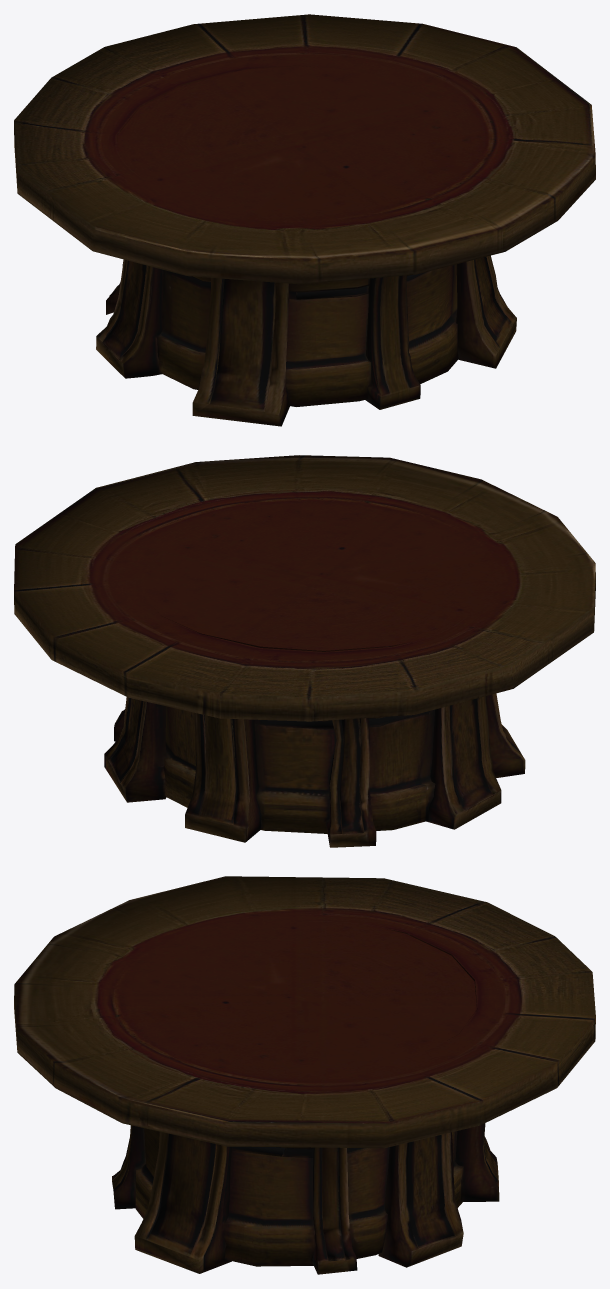
Rendered from Table.glb.
3 views of the same model, one above another, from view 1: azimuth 30°, elevation 25°; view 2: azimuth 150°, elevation 25°; view 3: azimuth 270°, elevation 25° (orthographic).
Visible parts, largest first — view 1: tripo_node_05a34d01-277e-4ef0-8a8a-1e05a357e774; view 2: tripo_node_05a34d01-277e-4ef0-8a8a-1e05a357e774; view 3: tripo_node_05a34d01-277e-4ef0-8a8a-1e05a357e774.
Boxes of the visible parts, left/top/right/bottom form: tripo_node_05a34d01-277e-4ef0-8a8a-1e05a357e774: left=14, top=14, right=595, bottom=426; tripo_node_05a34d01-277e-4ef0-8a8a-1e05a357e774: left=14, top=455, right=595, bottom=847; tripo_node_05a34d01-277e-4ef0-8a8a-1e05a357e774: left=14, top=876, right=595, bottom=1274.
Bounding box in the file's own units: 0.998 × 0.379 × 0.9934.
Materials: 1 (1 with a texture image).
